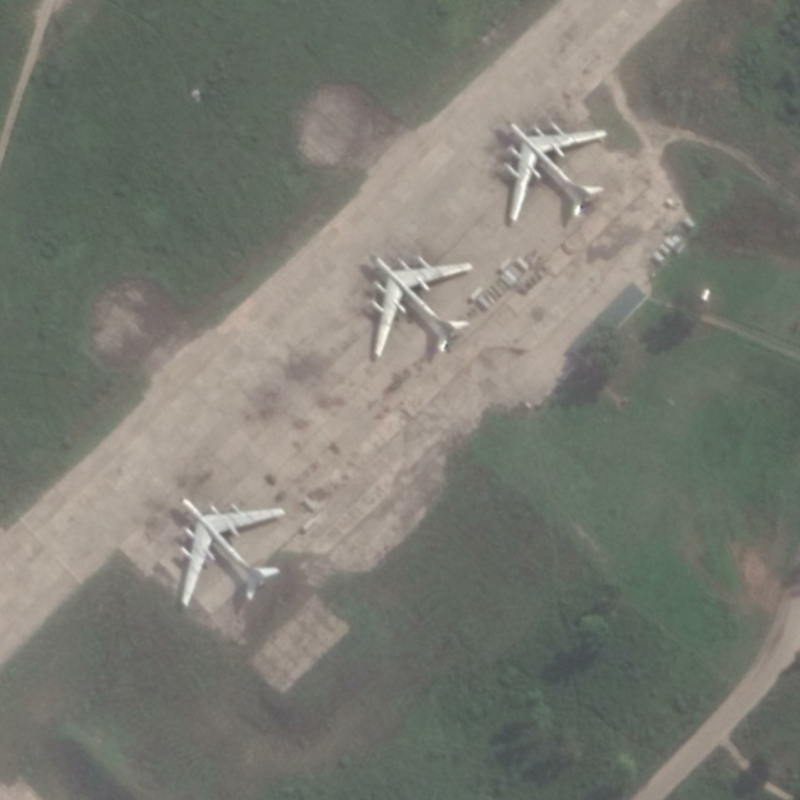A17: (177, 496, 288, 608), (367, 252, 475, 360), (501, 119, 609, 224)
